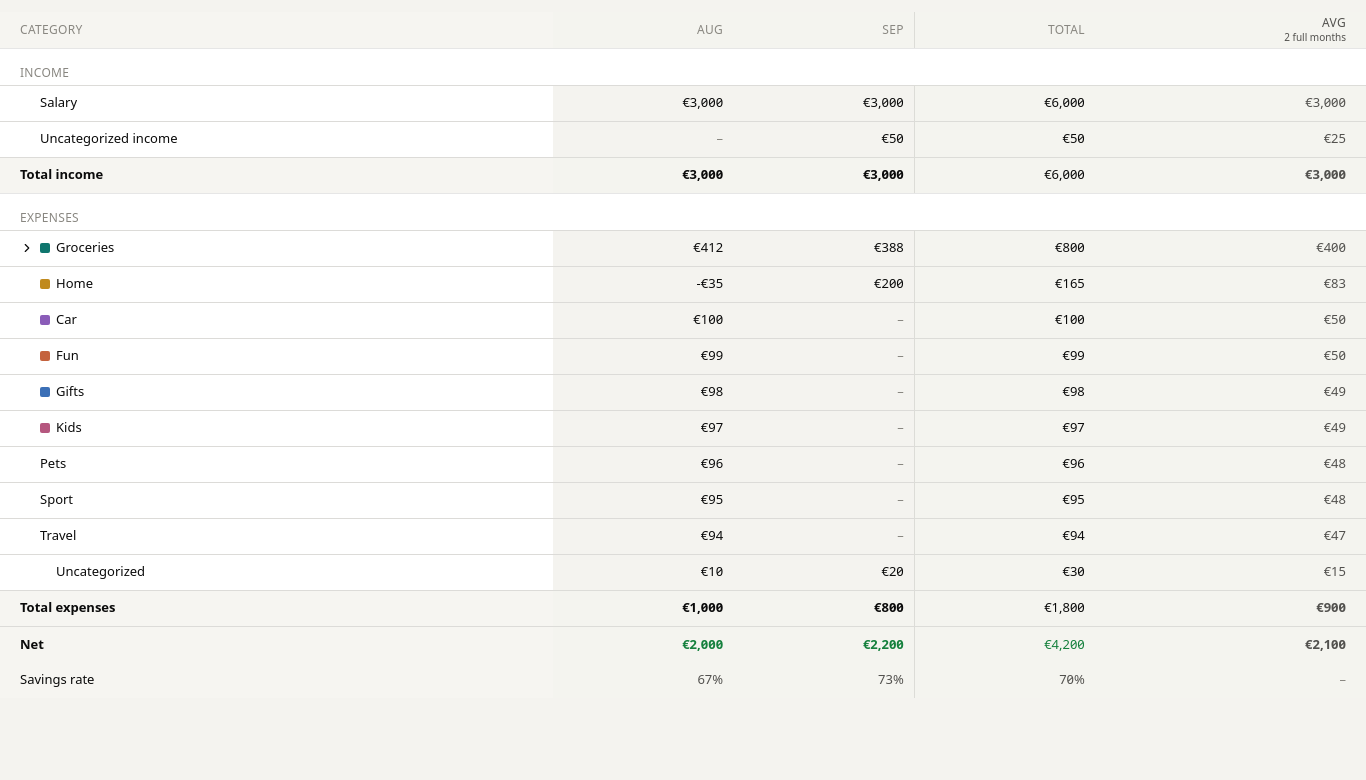
Test case: SpendingTable › expands a parent into its subcategories
Expected: the text "Supermarket" is not shown
Click the button "Groceries": {"x": 85, "y": 247} 20,238 -> 543,258
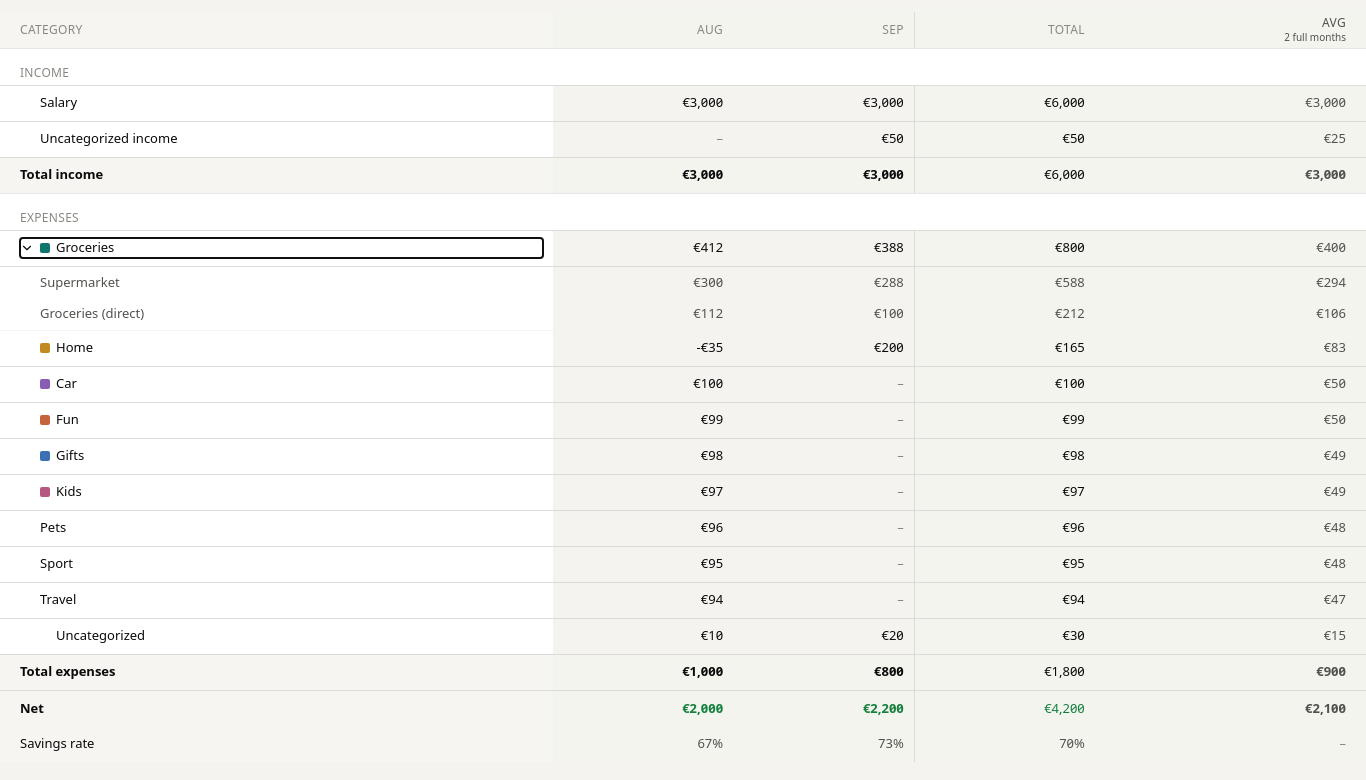
Expected: the text "Supermarket" is shown, 40,272 -> 120,292
Expected: the text "Groceries (direct)" is shown, 40,304 -> 144,324
